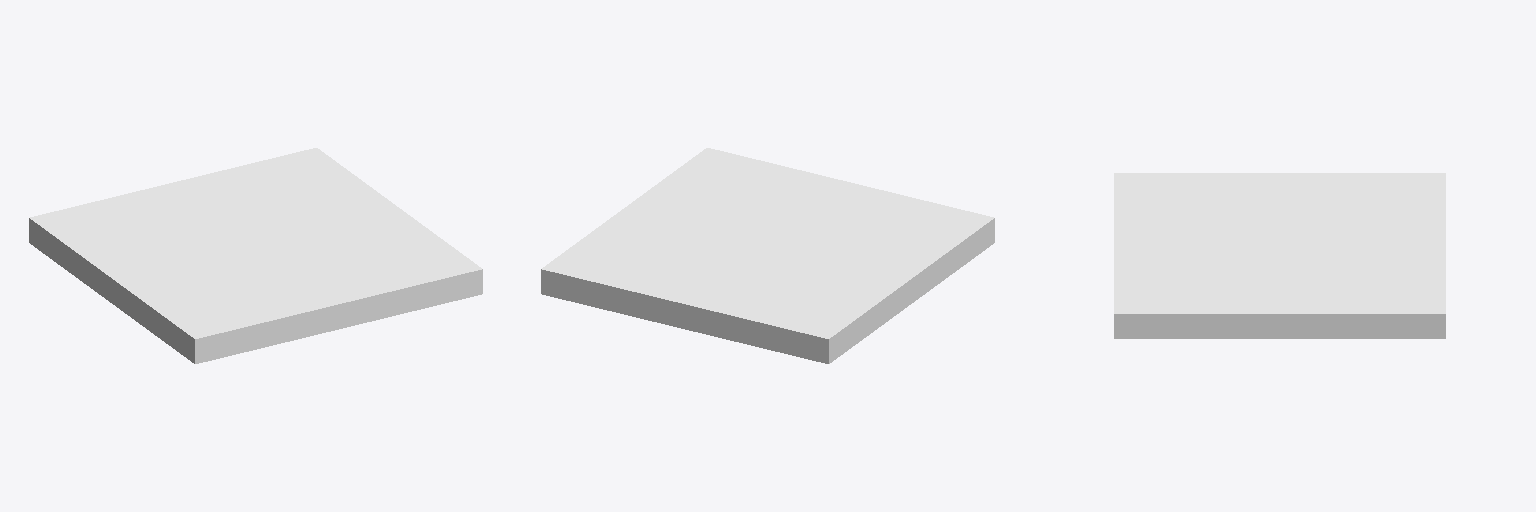
File: order7.vox.obj
3 views of the same model, side by side, from view 1: azimuth 30°, elevation 25°; view 2: azimuth 150°, elevation 25°; view 3: azimuth 270°, elevation 25° (orthographic).
Visible parts, largest first — view 1: object 1; view 2: object 1; view 3: object 1.
Boxes of the visible parts, x1,y1,x2,y2 form: object 1: [29, 148, 482, 363]; object 1: [541, 148, 994, 363]; object 1: [1114, 173, 1445, 338].
Size of the model in its own units: 24 by 2 by 24.